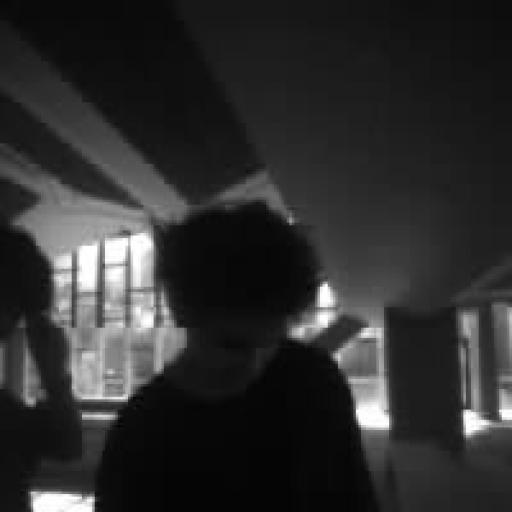human: (95, 200, 378, 511), (0, 226, 81, 511)
